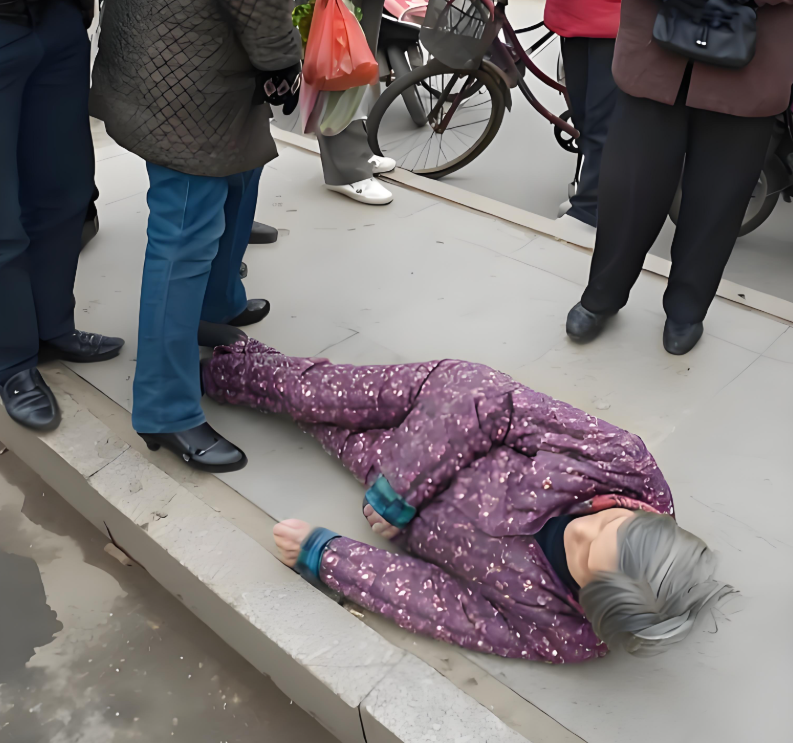down: (186, 319, 722, 671)
